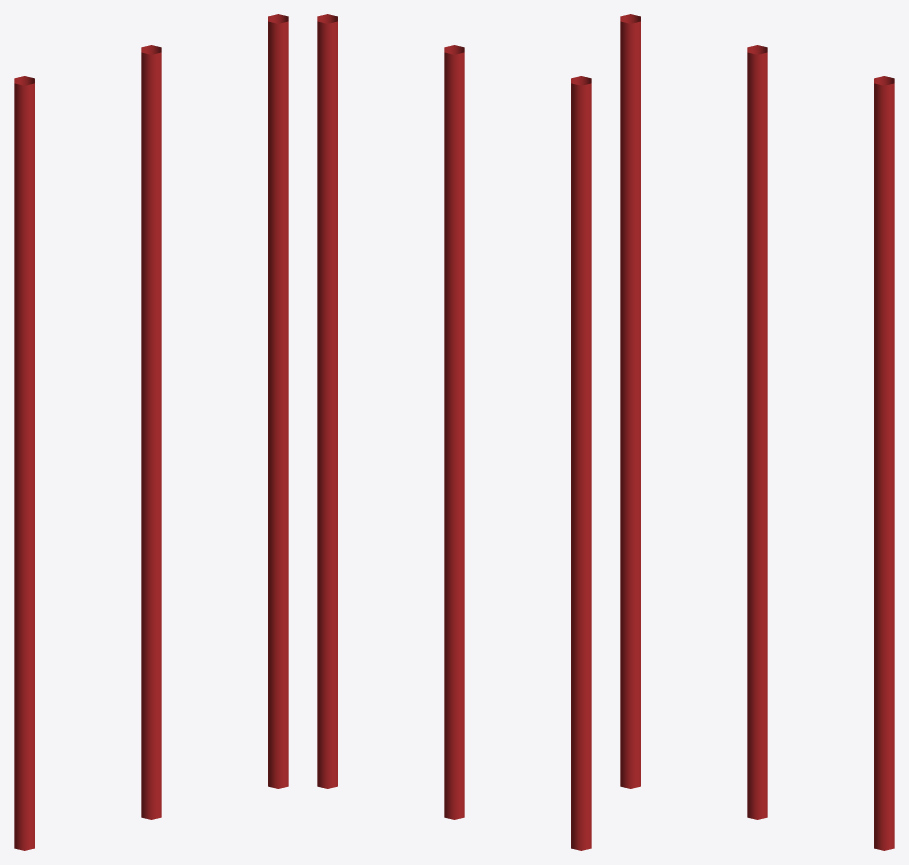
The model's file is obstacle_5_003.fbx.
The picture shows the model from 3 angles, left to right: view 1: azimuth 30°, elevation 25°; view 2: azimuth 150°, elevation 25°; view 3: azimuth 330°, elevation 25°; orthographic projection.
Parts seen in each view (by area): view 1: obstacle_5_003; view 2: obstacle_5_003; view 3: obstacle_5_003.
Part boxes in pixels (x1,y1,x2,y2): obstacle_5_003: (14, 14, 288, 850); obstacle_5_003: (317, 14, 591, 850); obstacle_5_003: (620, 14, 894, 850).
Size of the model in its own units: 346 by 22.33 by 922.
